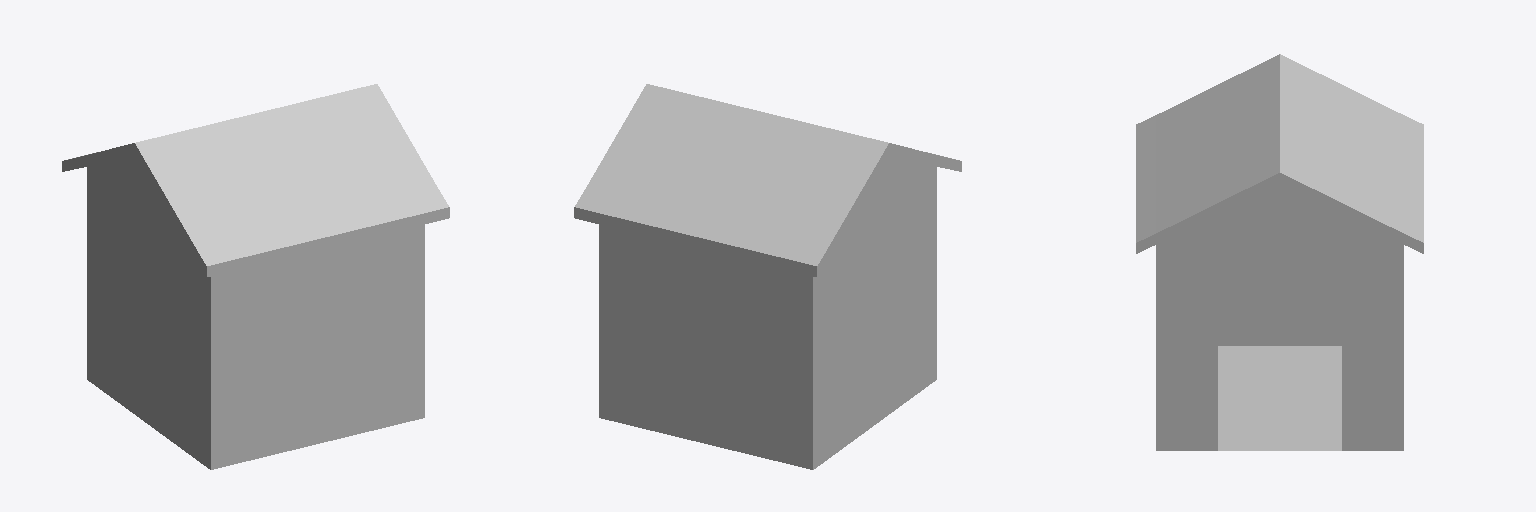
The model's file is default-house.obj.
The picture shows the model from 3 angles: view 1: azimuth 30°, elevation 25°; view 2: azimuth 150°, elevation 25°; view 3: azimuth 270°, elevation 25°; orthographic projection.
Parts seen in each view (by area): view 1: Cube_Cube.001; view 2: Cube_Cube.001; view 3: Cube_Cube.001.
Part boxes in pixels (x1,y1,x2,y2): Cube_Cube.001: (62,84,449,469); Cube_Cube.001: (574,84,961,469); Cube_Cube.001: (1136,54,1423,450).
Size of the model in its own units: 2.26 by 2.54 by 2.33.